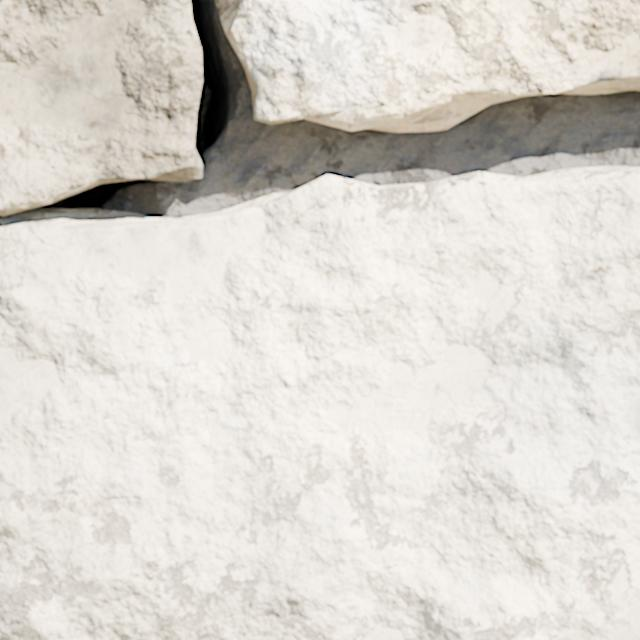crack: (0, 0, 639, 639), (215, 0, 639, 132)
